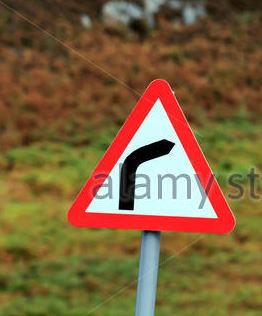Bend_to_right: (66, 75, 239, 238)
